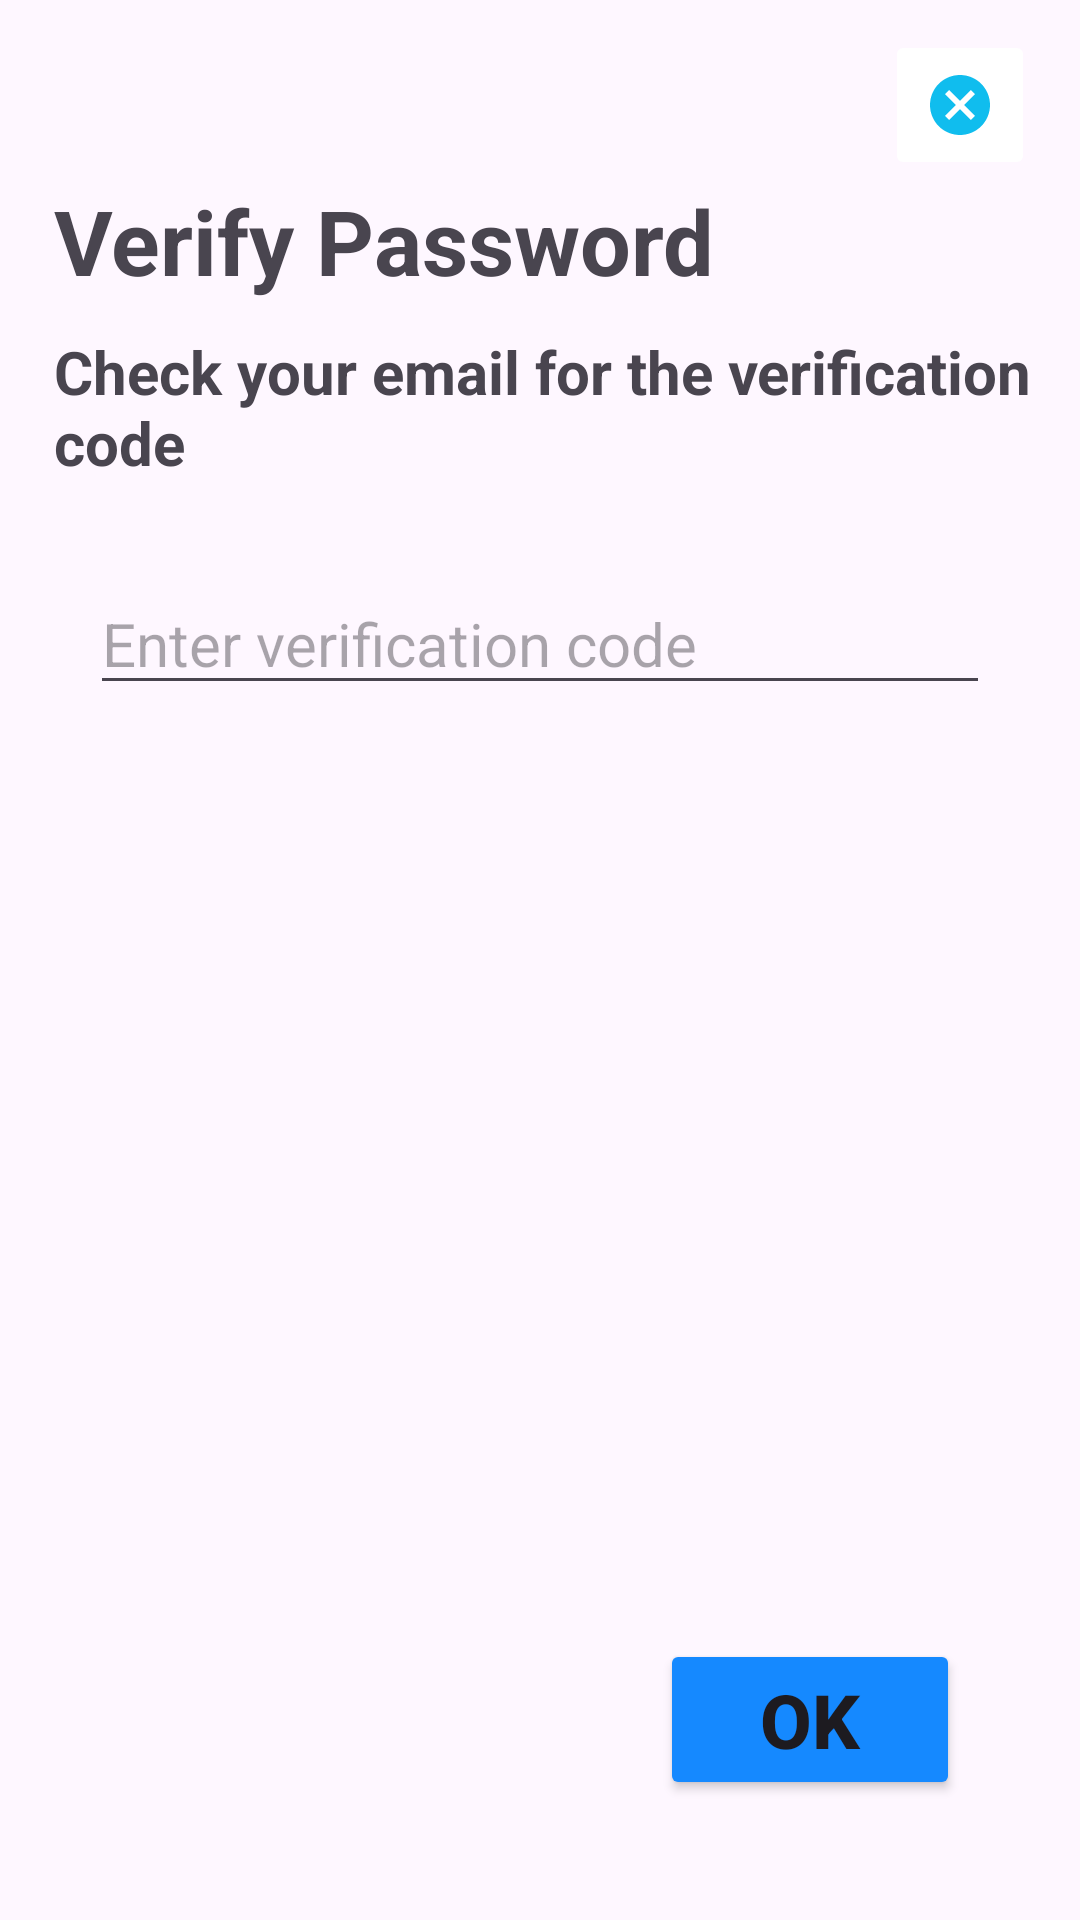

Where icons sit on this 1080x1920 app screen, as bbox=(x1, y1, x2, y2):
cancel: bbox=(930, 75, 990, 135)
